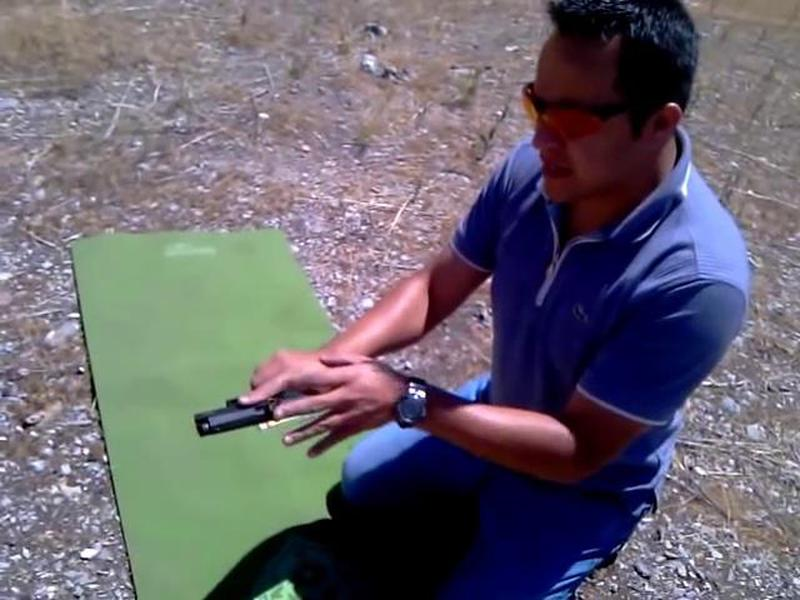Pistola: (171, 357, 363, 457)
